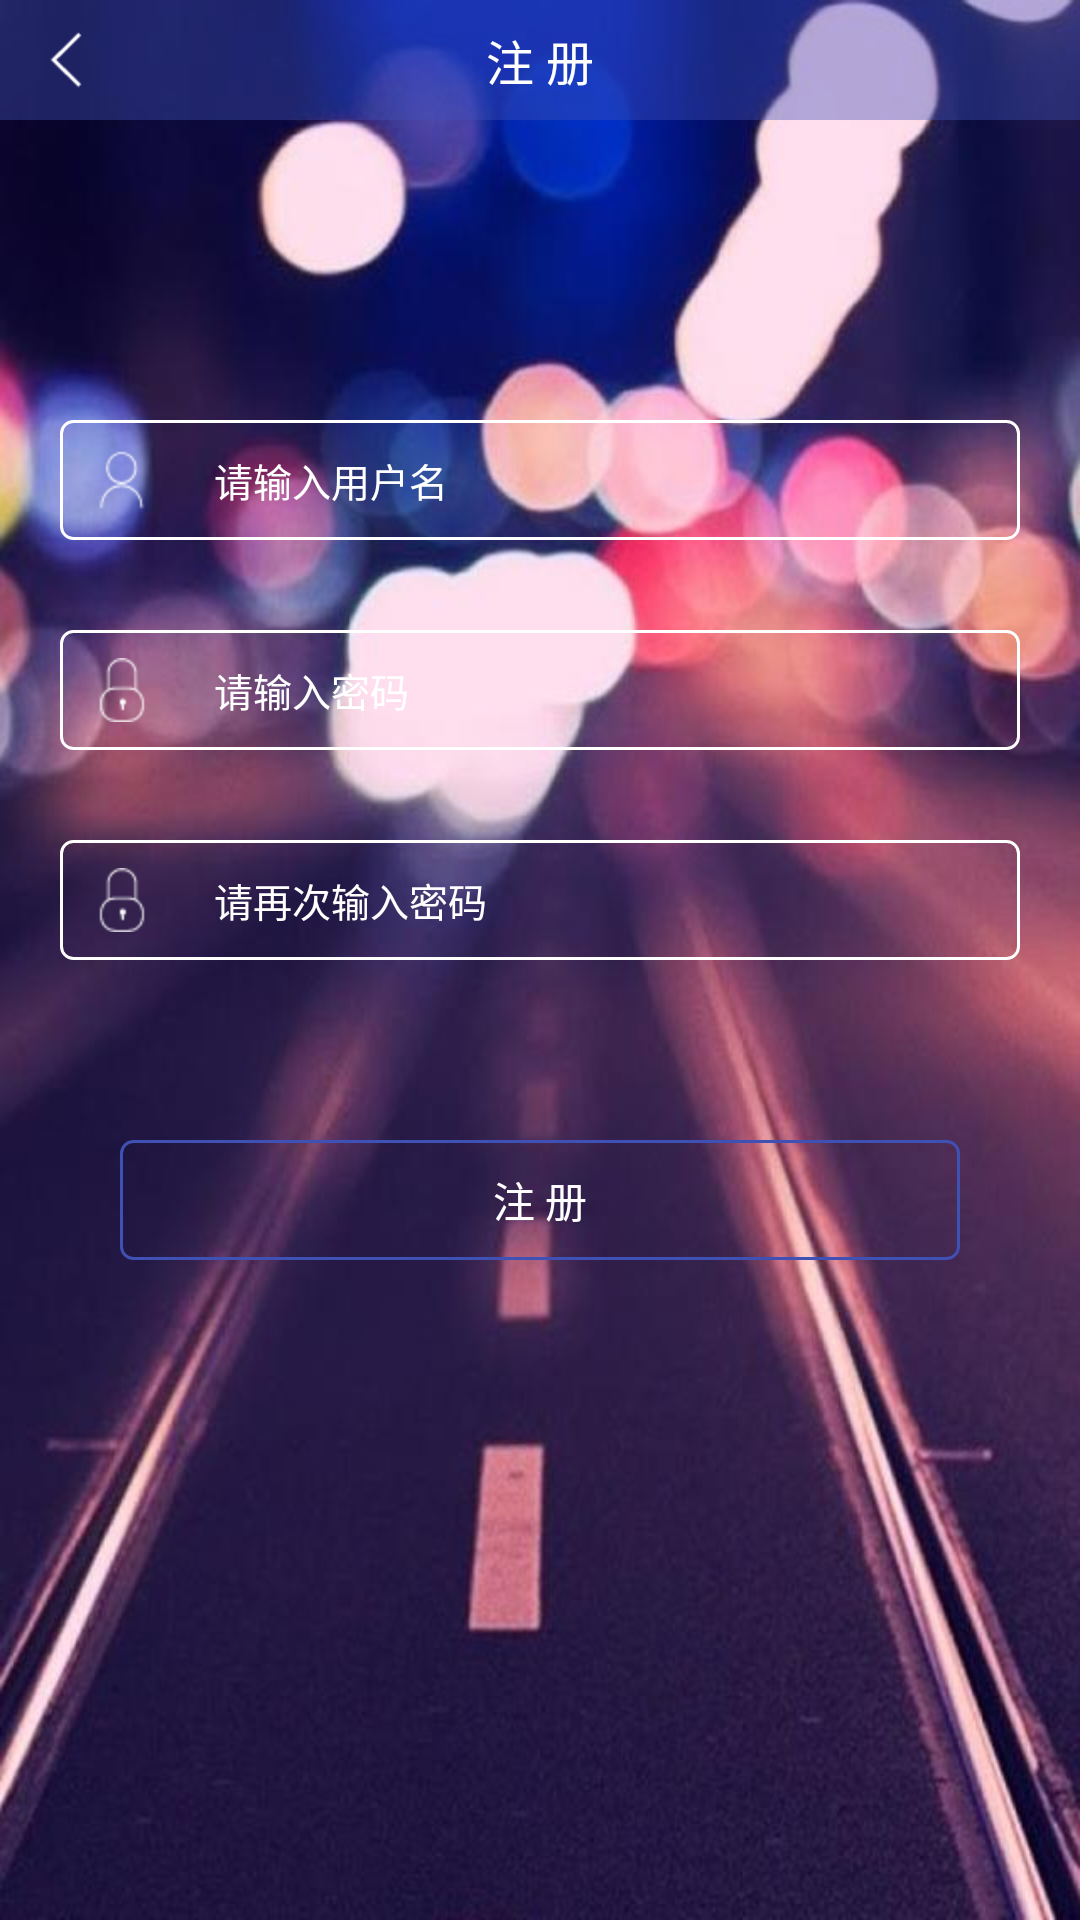

Point at icon controls on the screen. Image size 1080px×1920px, points as (x=x, y=y).
arrow left no line: (x=66, y=59)
